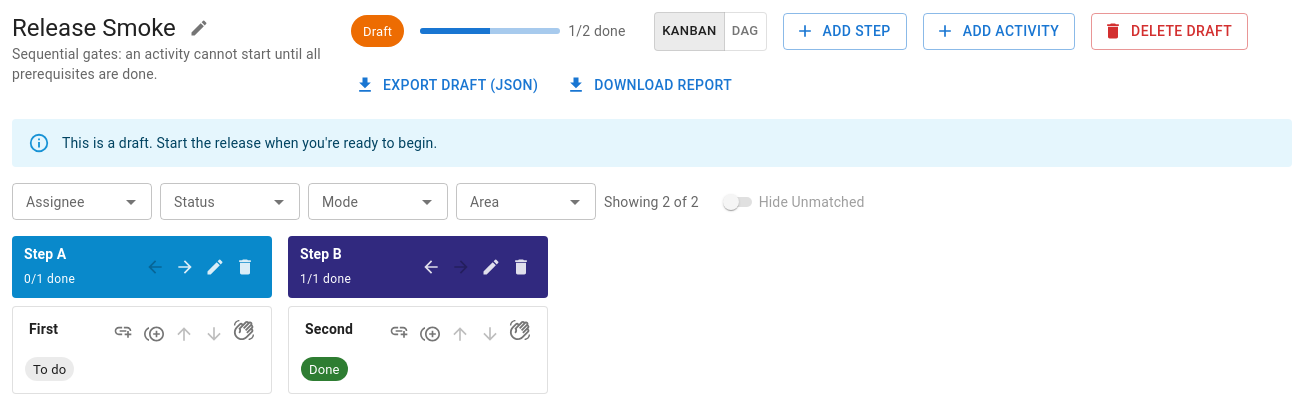
it: Hide unmatched remove cards e esconde colunas vazias no Kanban
expect the text "First" is shown: met, box [29,321,58,337]
expect the heading "Step B" is shown: met, box [300,246,342,262]
Press the mouse on the dropdown labelled "Status" at (214, 202), box [166,189,261,214]
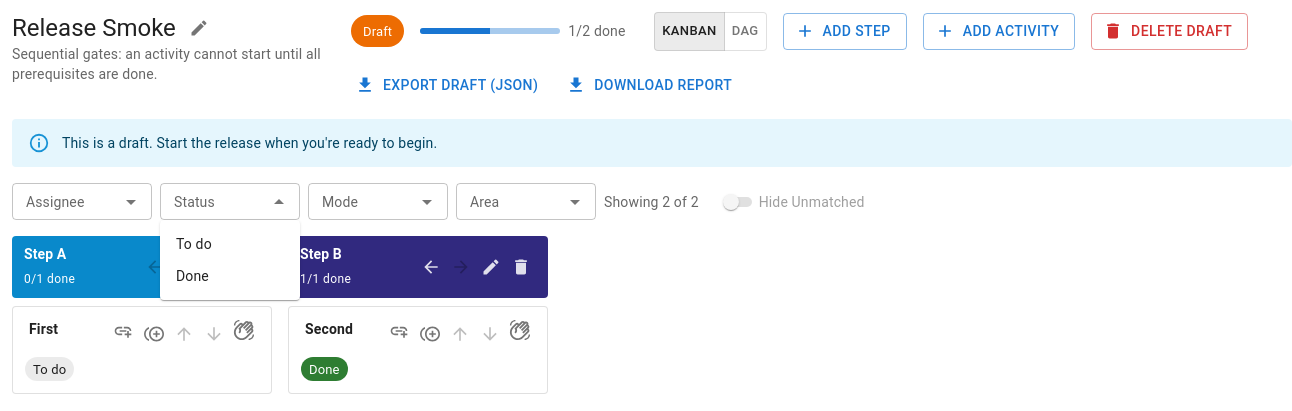
Click the option "To do" at (194, 244), box [176,236,212,252]
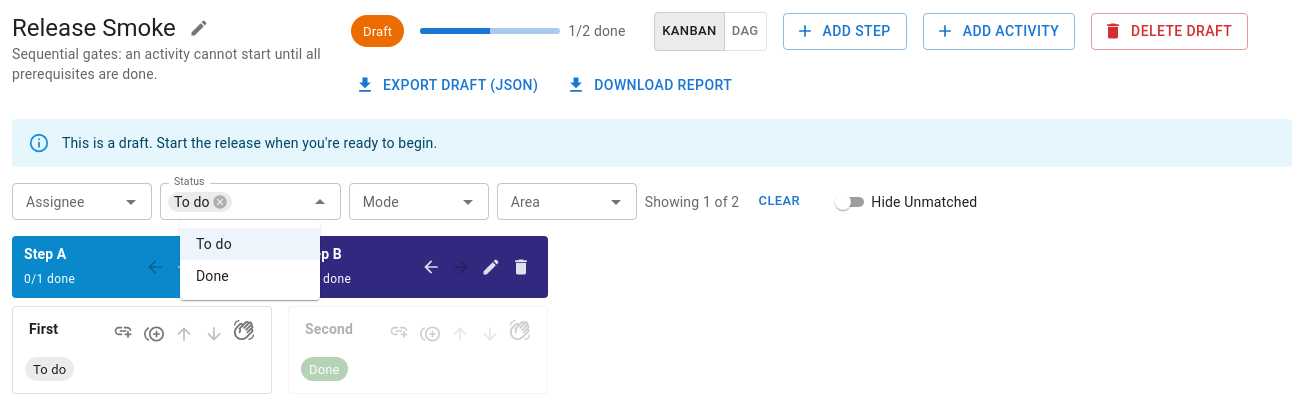
Click the checkbox labelled "Hide Unmatched" at (904, 202), box [831,190,977,214]
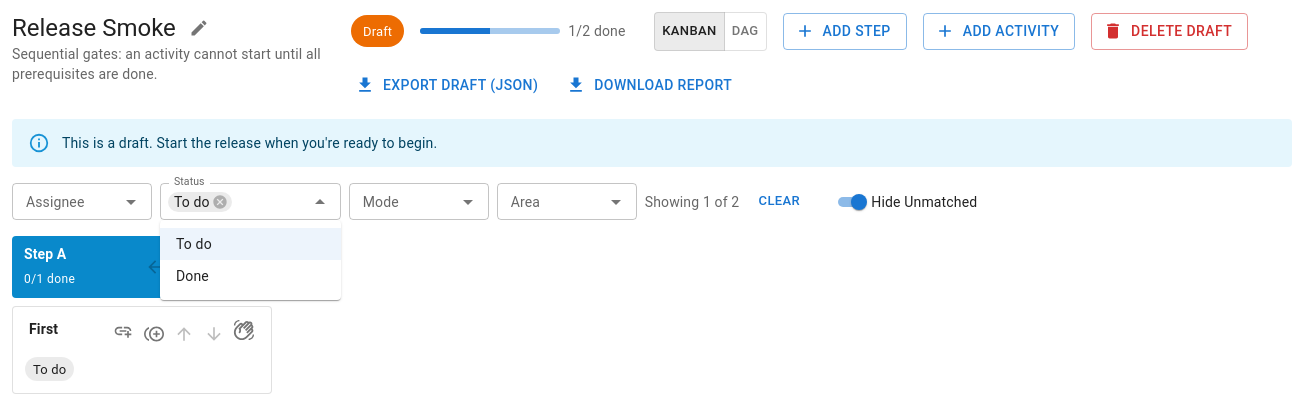
expect the text "First" is shown: met, box [29,321,58,337]
expect the button "Second" is gone: met
expect the heading "Step B" is gone: met
# Clear zera hide — switch volta a desabilitado e cards/colunas reaparecem
Click the button with aria-label "Clear filters" at (779, 202), box [747,186,811,217]
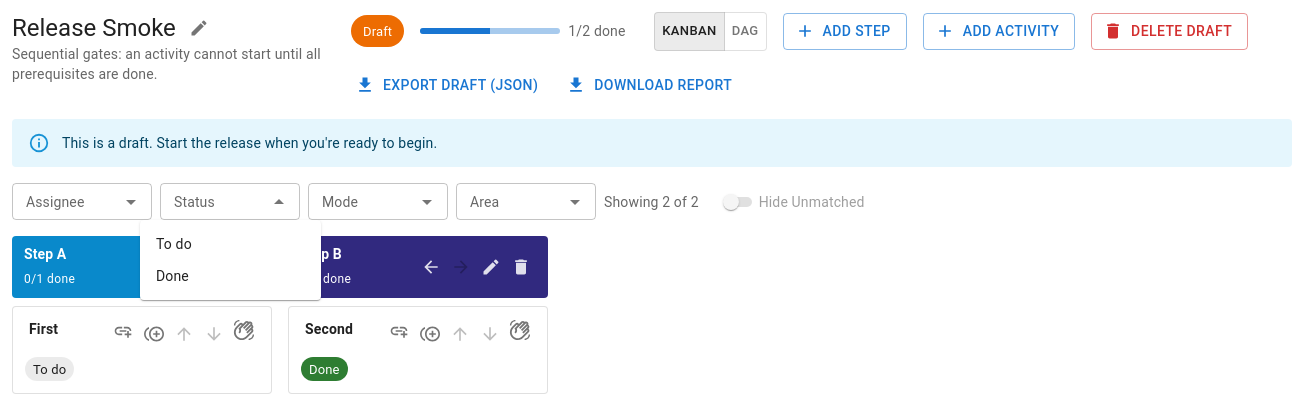
expect the text "Second" is shown: met, box [305,321,353,337]
expect the heading "Step B" is shown: met, box [300,246,342,262]
expect the checkbox labelled "Hide Unmatched" is disabled: met, box [719,190,865,214]
